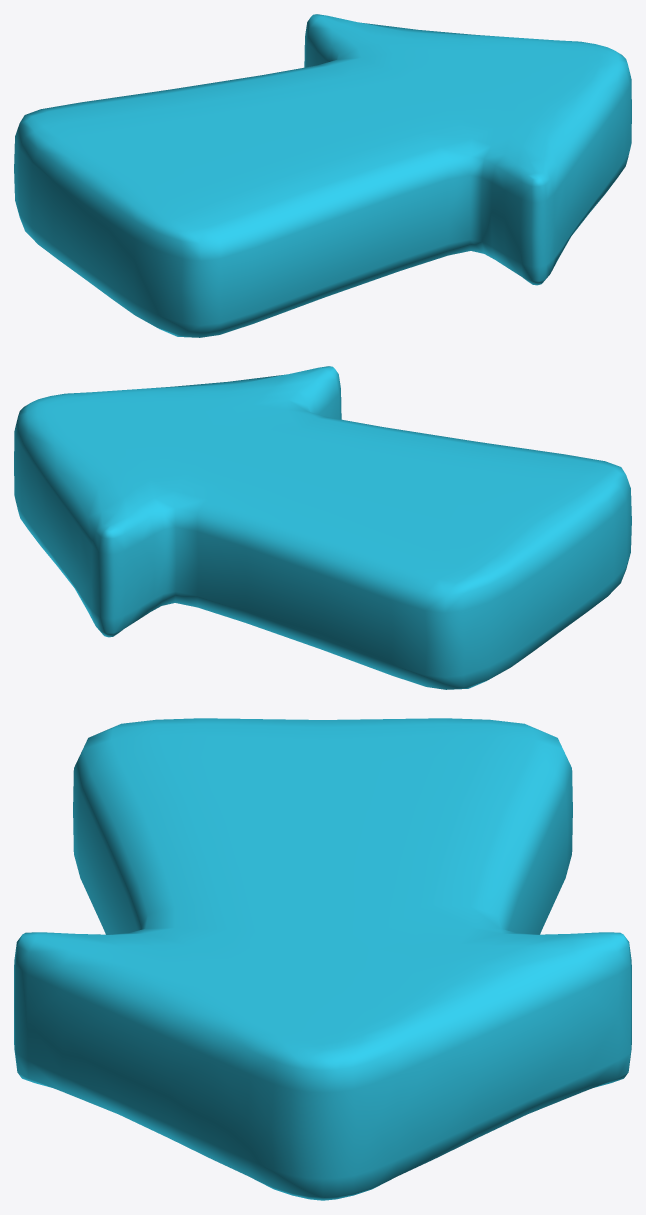
File: arrow_002_v01.fbx
3 renders of one model, top to bottom at view 1: azimuth 30°, elevation 25°; view 2: azimuth 150°, elevation 25°; view 3: azimuth 270°, elevation 25°, orthographic. The views are drawn at different scales.
Visible parts, largest first — view 1: arrow.003; view 2: arrow.003; view 3: arrow.003.
Boxes of the visible parts, bbox=[...] form: arrow.003: bbox=[14, 14, 631, 337]; arrow.003: bbox=[14, 366, 631, 689]; arrow.003: bbox=[14, 718, 631, 1200].
Size of the model in its own units: 268 by 52.16 by 197.
